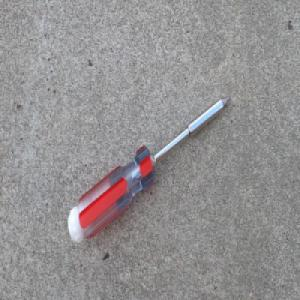Screwdriver: (66, 93, 231, 244)
